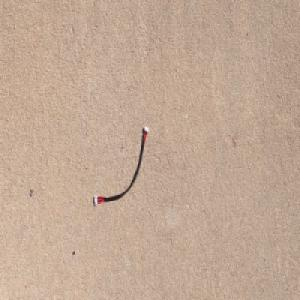Wire: (93, 125, 149, 207)
